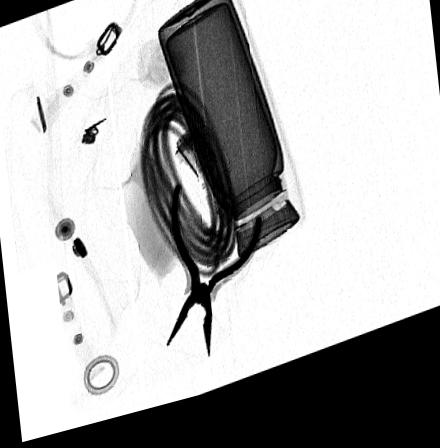Pliers: (165, 189, 263, 367)
